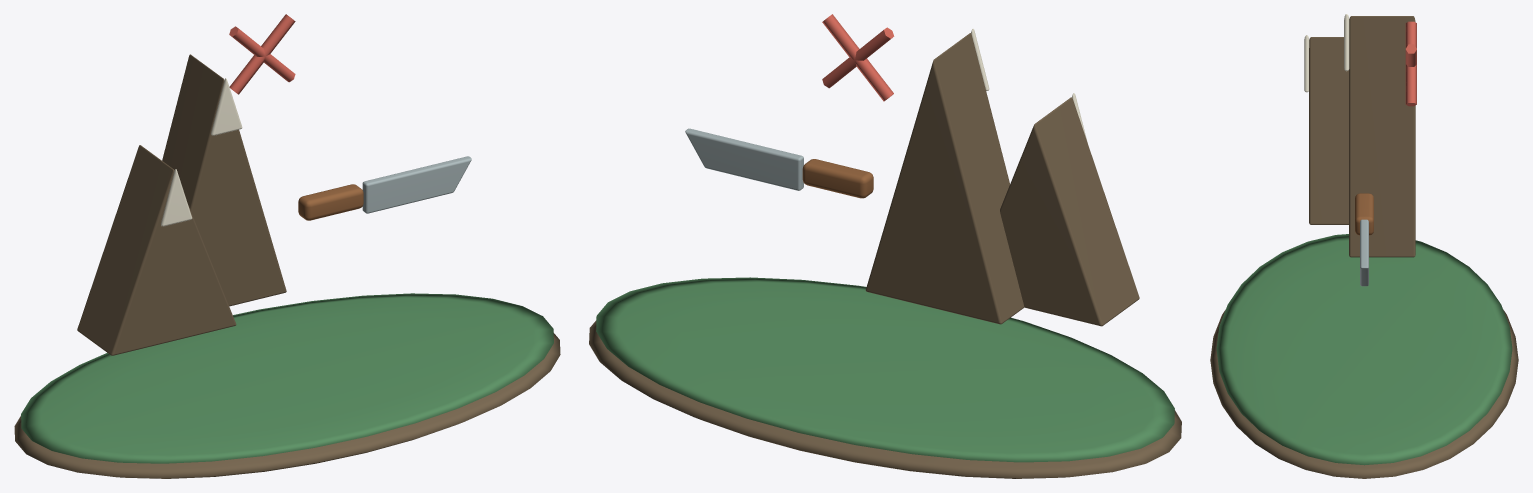
The model's file is complete-third-ridge-knife-hardness.glb.
The picture shows the model from 3 angles, left to right: view 1: azimuth 30°, elevation 25°; view 2: azimuth 150°, elevation 25°; view 3: azimuth 270°, elevation 25°; orthographic projection. The views are drawn at different scales.
Parts seen in each view (by area): view 1: complete-third-ridge-knife-hardness_surface_01, complete-third-ridge-knife-hardness_surface_00, complete-third-ridge-knife-hardness_surface_04, complete-third-ridge-knife-hardness_surface_02, complete-third-ridge-knife-hardness_surface_05, complete-third-ridge-knife-hardness_surface_03; view 2: complete-third-ridge-knife-hardness_surface_01, complete-third-ridge-knife-hardness_surface_00, complete-third-ridge-knife-hardness_surface_04, complete-third-ridge-knife-hardness_surface_05, complete-third-ridge-knife-hardness_surface_03; view 3: complete-third-ridge-knife-hardness_surface_01, complete-third-ridge-knife-hardness_surface_00, complete-third-ridge-knife-hardness_surface_05, complete-third-ridge-knife-hardness_surface_03, complete-third-ridge-knife-hardness_surface_02, complete-third-ridge-knife-hardness_surface_04.
Boxes of the visible parts, box(x1,y1,x2,y2) form: complete-third-ridge-knife-hardness_surface_01: box(21, 293, 553, 463); complete-third-ridge-knife-hardness_surface_00: box(14, 54, 560, 478); complete-third-ridge-knife-hardness_surface_04: box(362, 156, 471, 213); complete-third-ridge-knife-hardness_surface_02: box(161, 78, 242, 226); complete-third-ridge-knife-hardness_surface_05: box(229, 14, 295, 94); complete-third-ridge-knife-hardness_surface_03: box(298, 184, 363, 220); complete-third-ridge-knife-hardness_surface_01: box(596, 277, 1174, 462); complete-third-ridge-knife-hardness_surface_00: box(589, 33, 1181, 478); complete-third-ridge-knife-hardness_surface_04: box(685, 128, 803, 190); complete-third-ridge-knife-hardness_surface_05: box(822, 14, 894, 101); complete-third-ridge-knife-hardness_surface_03: box(802, 159, 873, 198); complete-third-ridge-knife-hardness_surface_01: box(1216, 234, 1512, 465); complete-third-ridge-knife-hardness_surface_00: box(1210, 16, 1518, 478); complete-third-ridge-knife-hardness_surface_05: box(1405, 21, 1416, 106); complete-third-ridge-knife-hardness_surface_03: box(1355, 193, 1373, 235); complete-third-ridge-knife-hardness_surface_02: box(1304, 14, 1349, 92); complete-third-ridge-knife-hardness_surface_04: box(1360, 219, 1368, 286).
Bounding box in the file's own units: 4.56 × 3.06 × 2.5.
